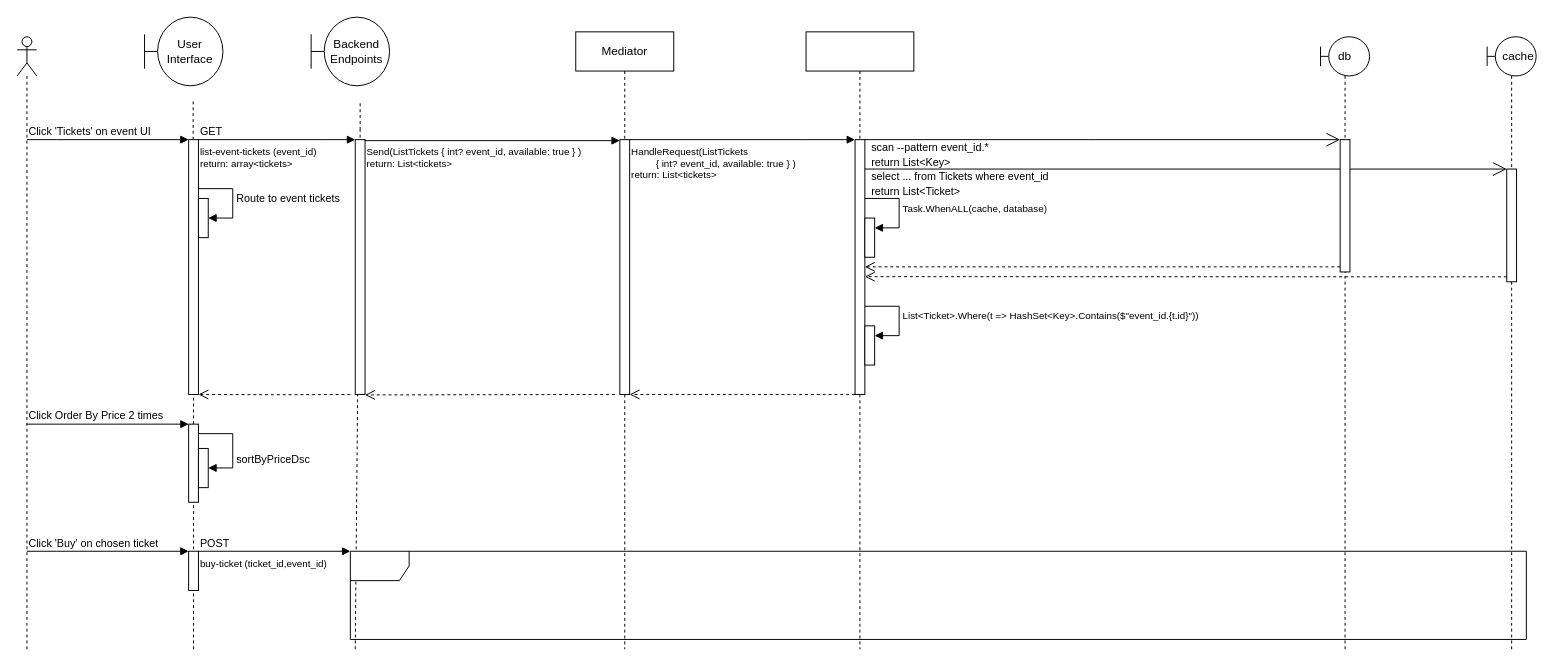
This 1553x667 diagram has some shape labels left out. Here are the shapes that lost their labels. From the top down, the centre of each, then its label:
At (859,340): "ListTicketsHandler".
At (937,594): "ref ticketStateMachine".
